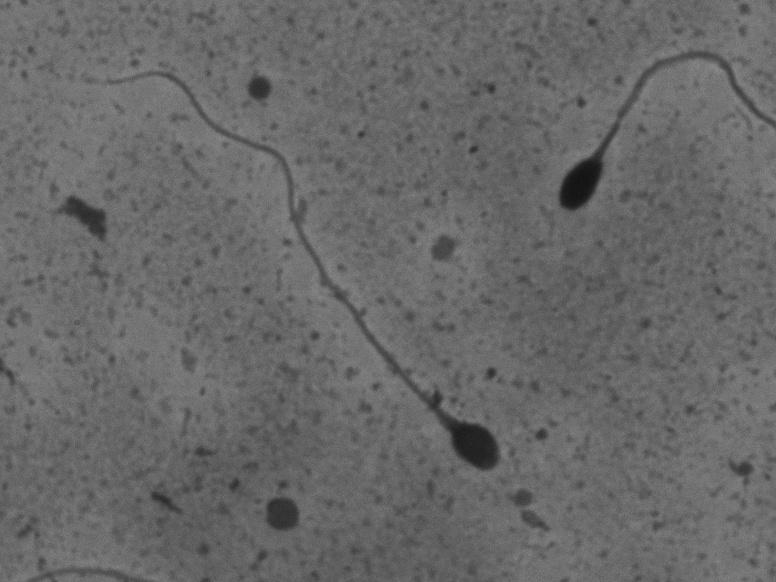Normal: (69, 53, 504, 494), (534, 29, 762, 255)
